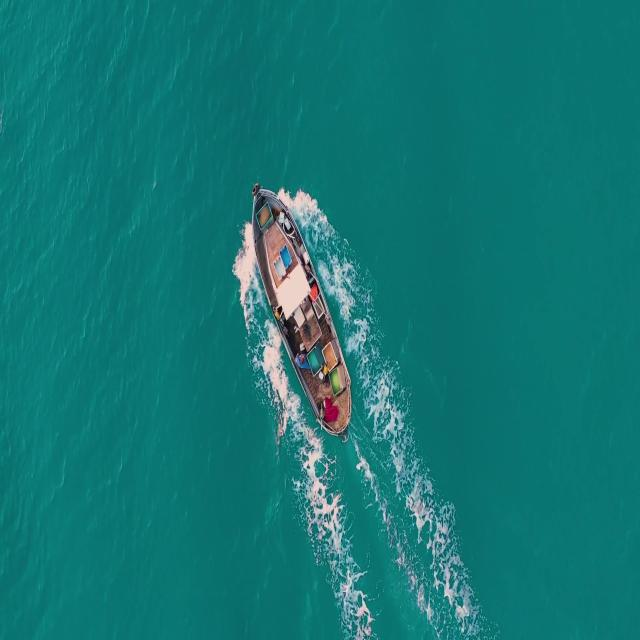ship: (250, 183, 359, 446)
